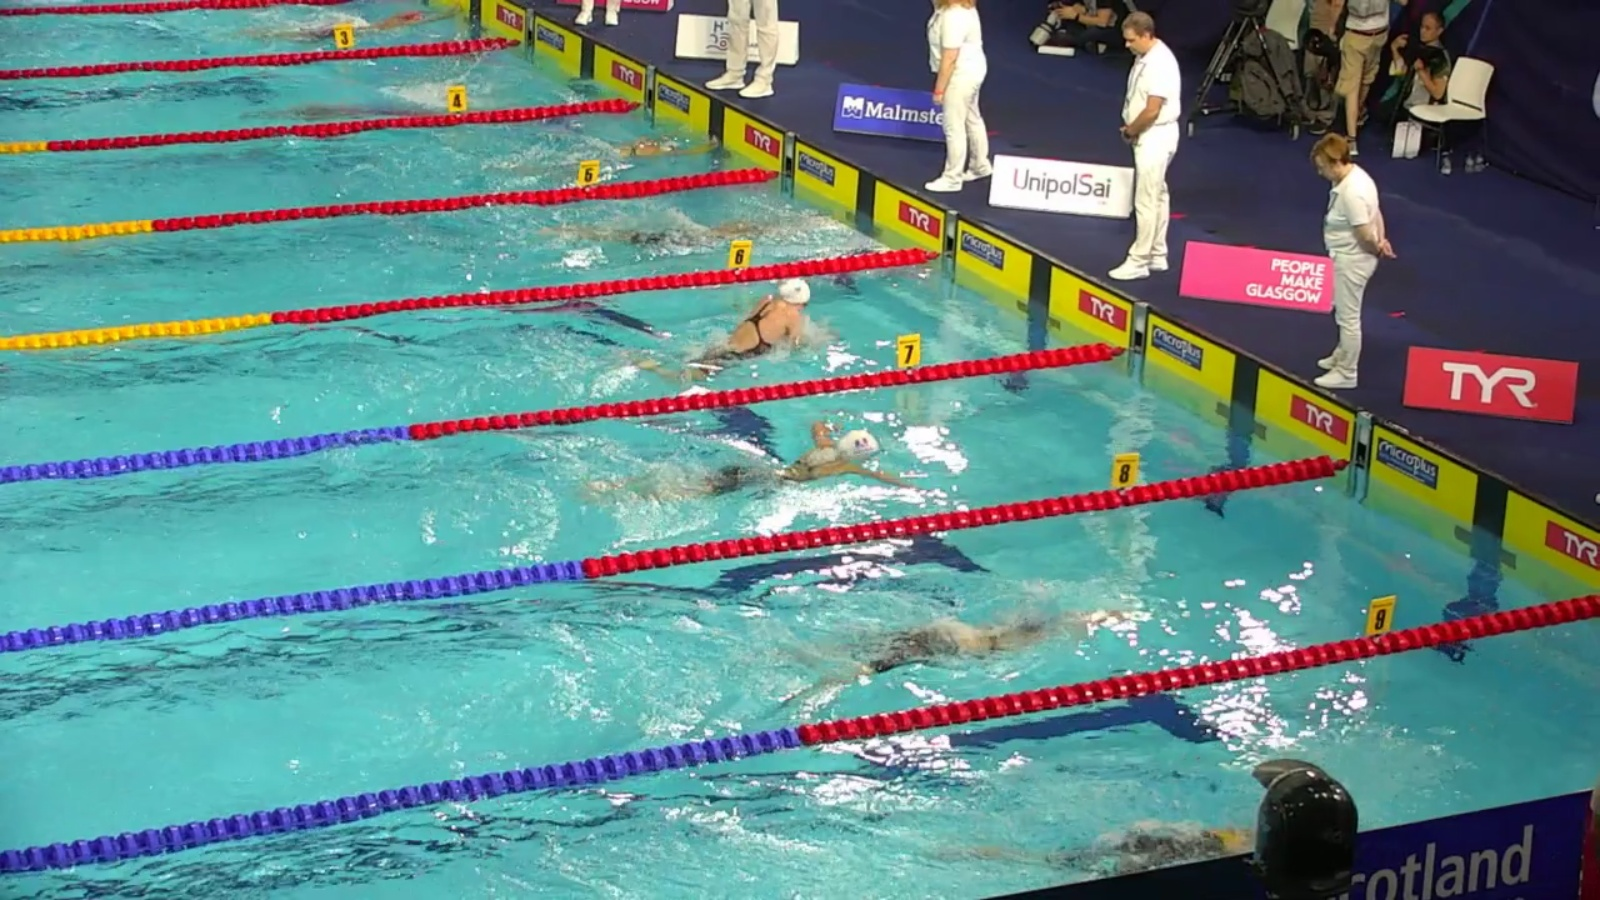swimmerw: (766, 605, 1119, 697), (589, 423, 905, 511), (915, 820, 1257, 900), (622, 275, 830, 393), (538, 208, 777, 249), (255, 3, 463, 48), (227, 96, 423, 135), (555, 124, 725, 168)
